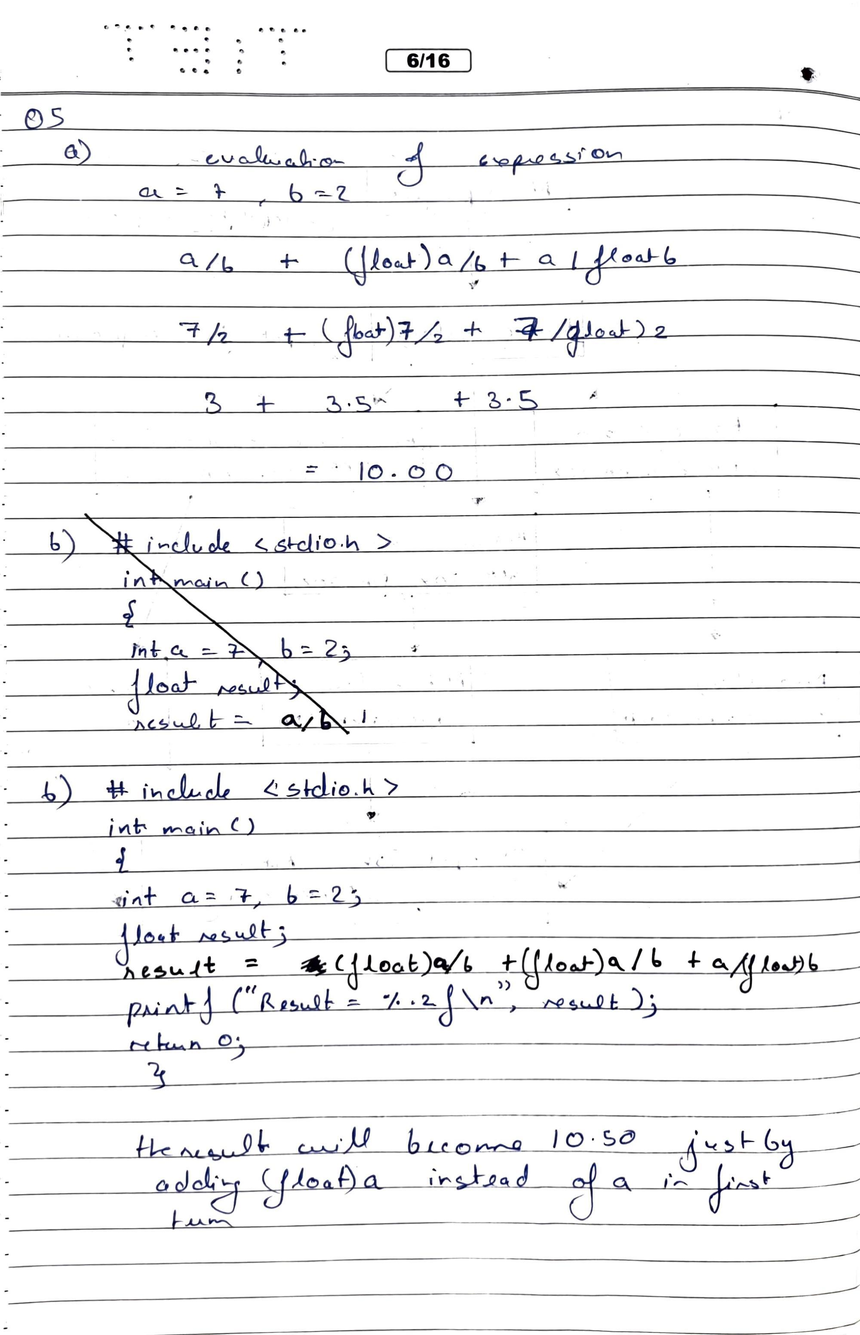cuttings: (44, 513, 395, 738), (299, 955, 328, 977)
